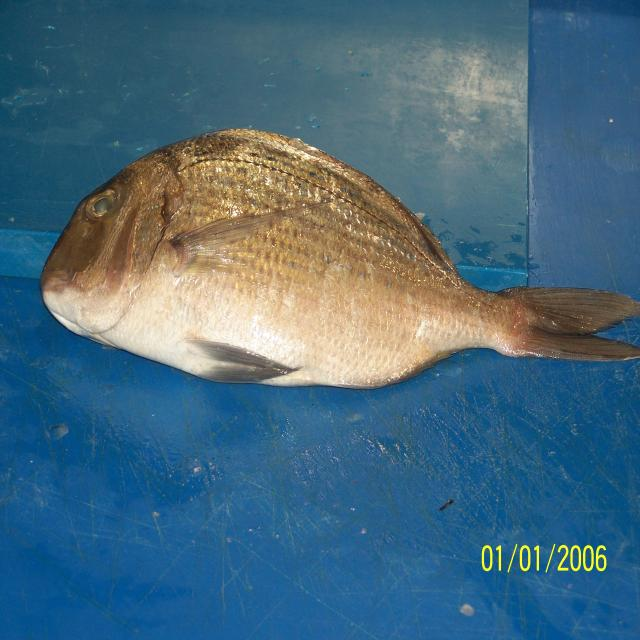Red-Sea-Bream-mercan-: (40, 128, 640, 392)
